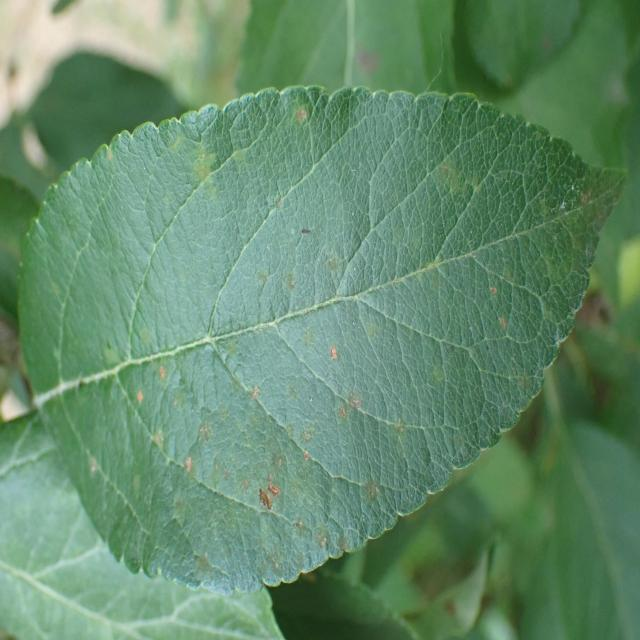scab: (63, 113, 618, 574)
